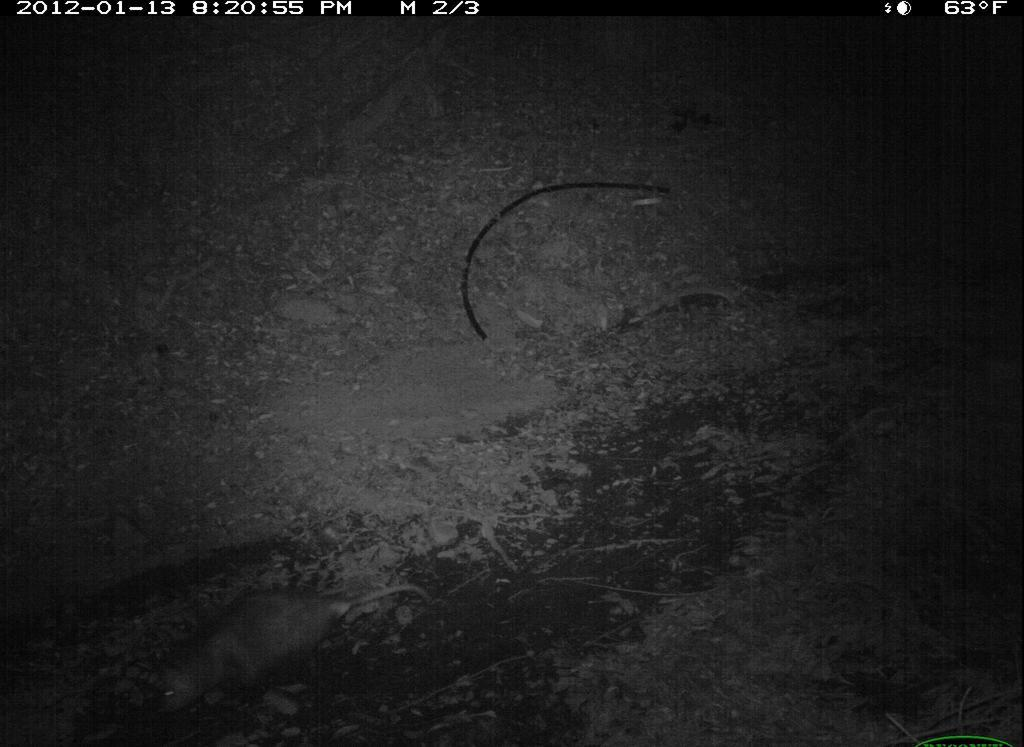opossum: (150, 577, 434, 721)
